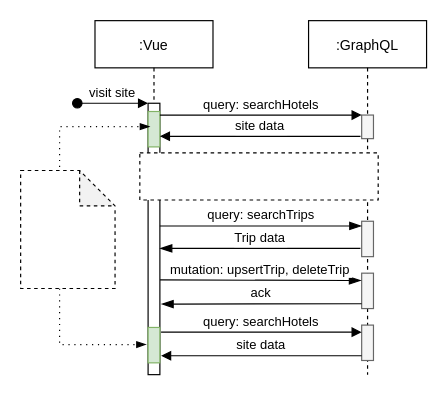
Some shapes in this 447 by 395 pixel diagram are drawn without their labels. Each missing label, with the centre of its shape:
"Application is reaload" belongs at point (67, 229).
"User browsing" belongs at point (258, 176).
